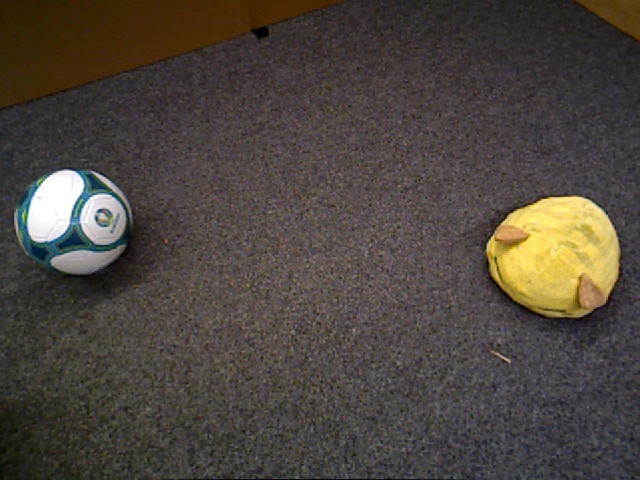grasp: (485, 193, 622, 320)
kick: (13, 167, 133, 276)
